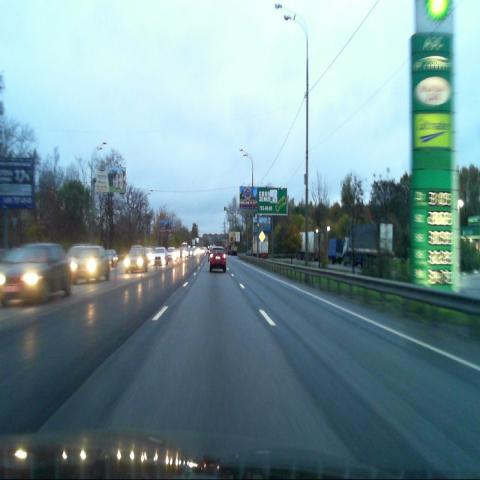2_1: (258, 230, 266, 242)
